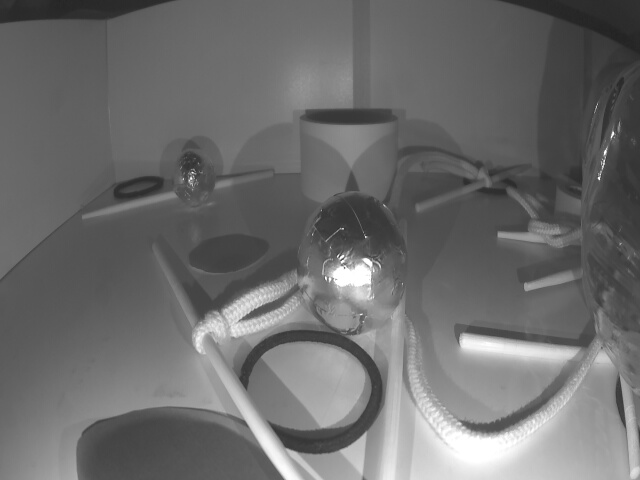Live: (294, 196, 408, 331), (174, 150, 215, 202)
